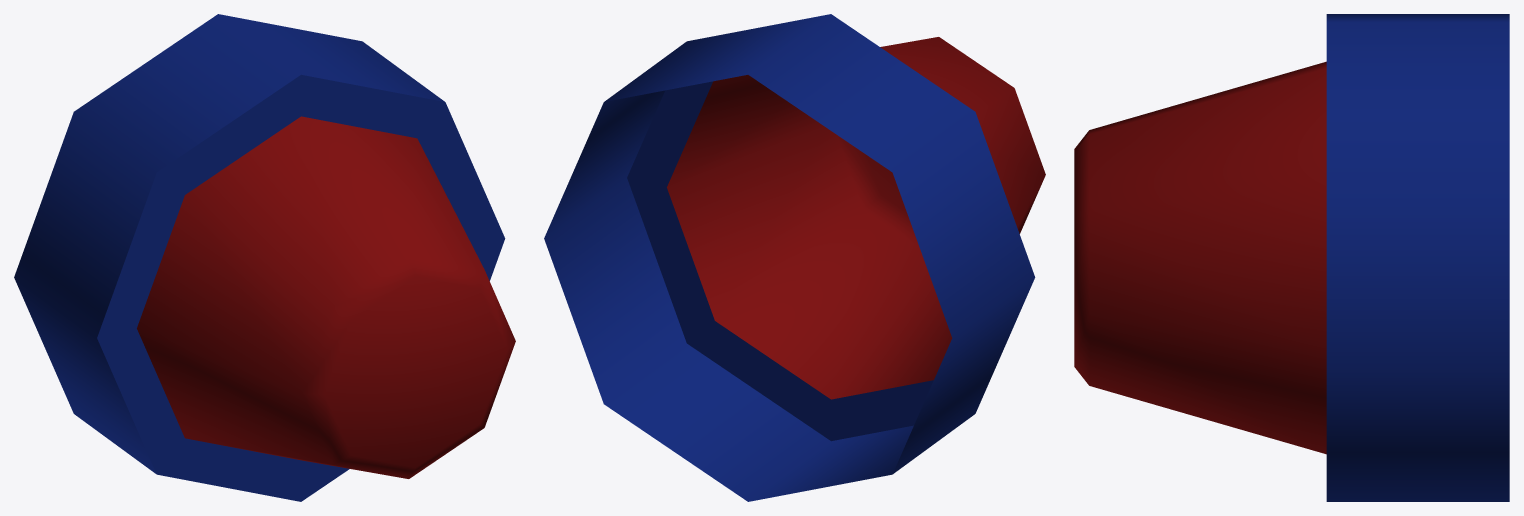
File: SM_Light_Alarm.fbx
3 views of the same model, side by side, from view 1: azimuth 30°, elevation 25°; view 2: azimuth 150°, elevation 25°; view 3: azimuth 270°, elevation 25° (orthographic). The views are drawn at different scales.
Parts seen in each view (by area): view 1: SM_Light_Alarm; view 2: SM_Light_Alarm; view 3: SM_Light_Alarm.
Boxes of the visible parts, x1,y1,x2,y2 form: SM_Light_Alarm: (14, 14, 515, 501); SM_Light_Alarm: (544, 14, 1045, 501); SM_Light_Alarm: (1074, 14, 1509, 501).
Size of the model in its own units: 3.27 by 3.27 by 2.74.
